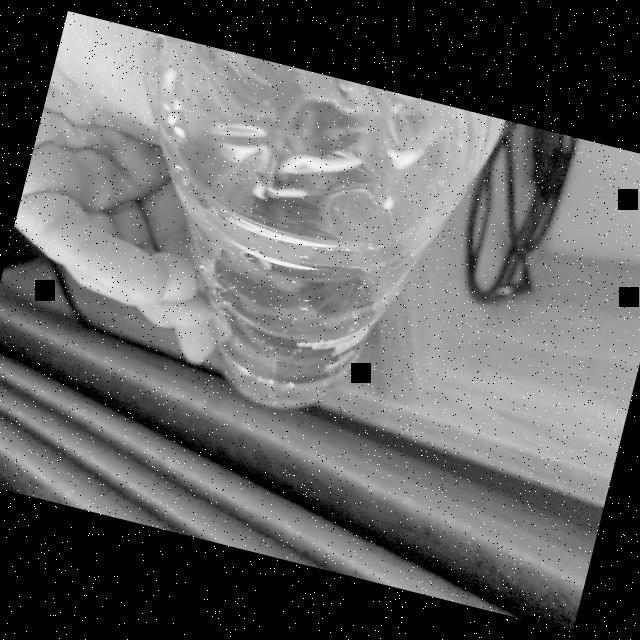plastic_bottle: (46, 25, 528, 456)
